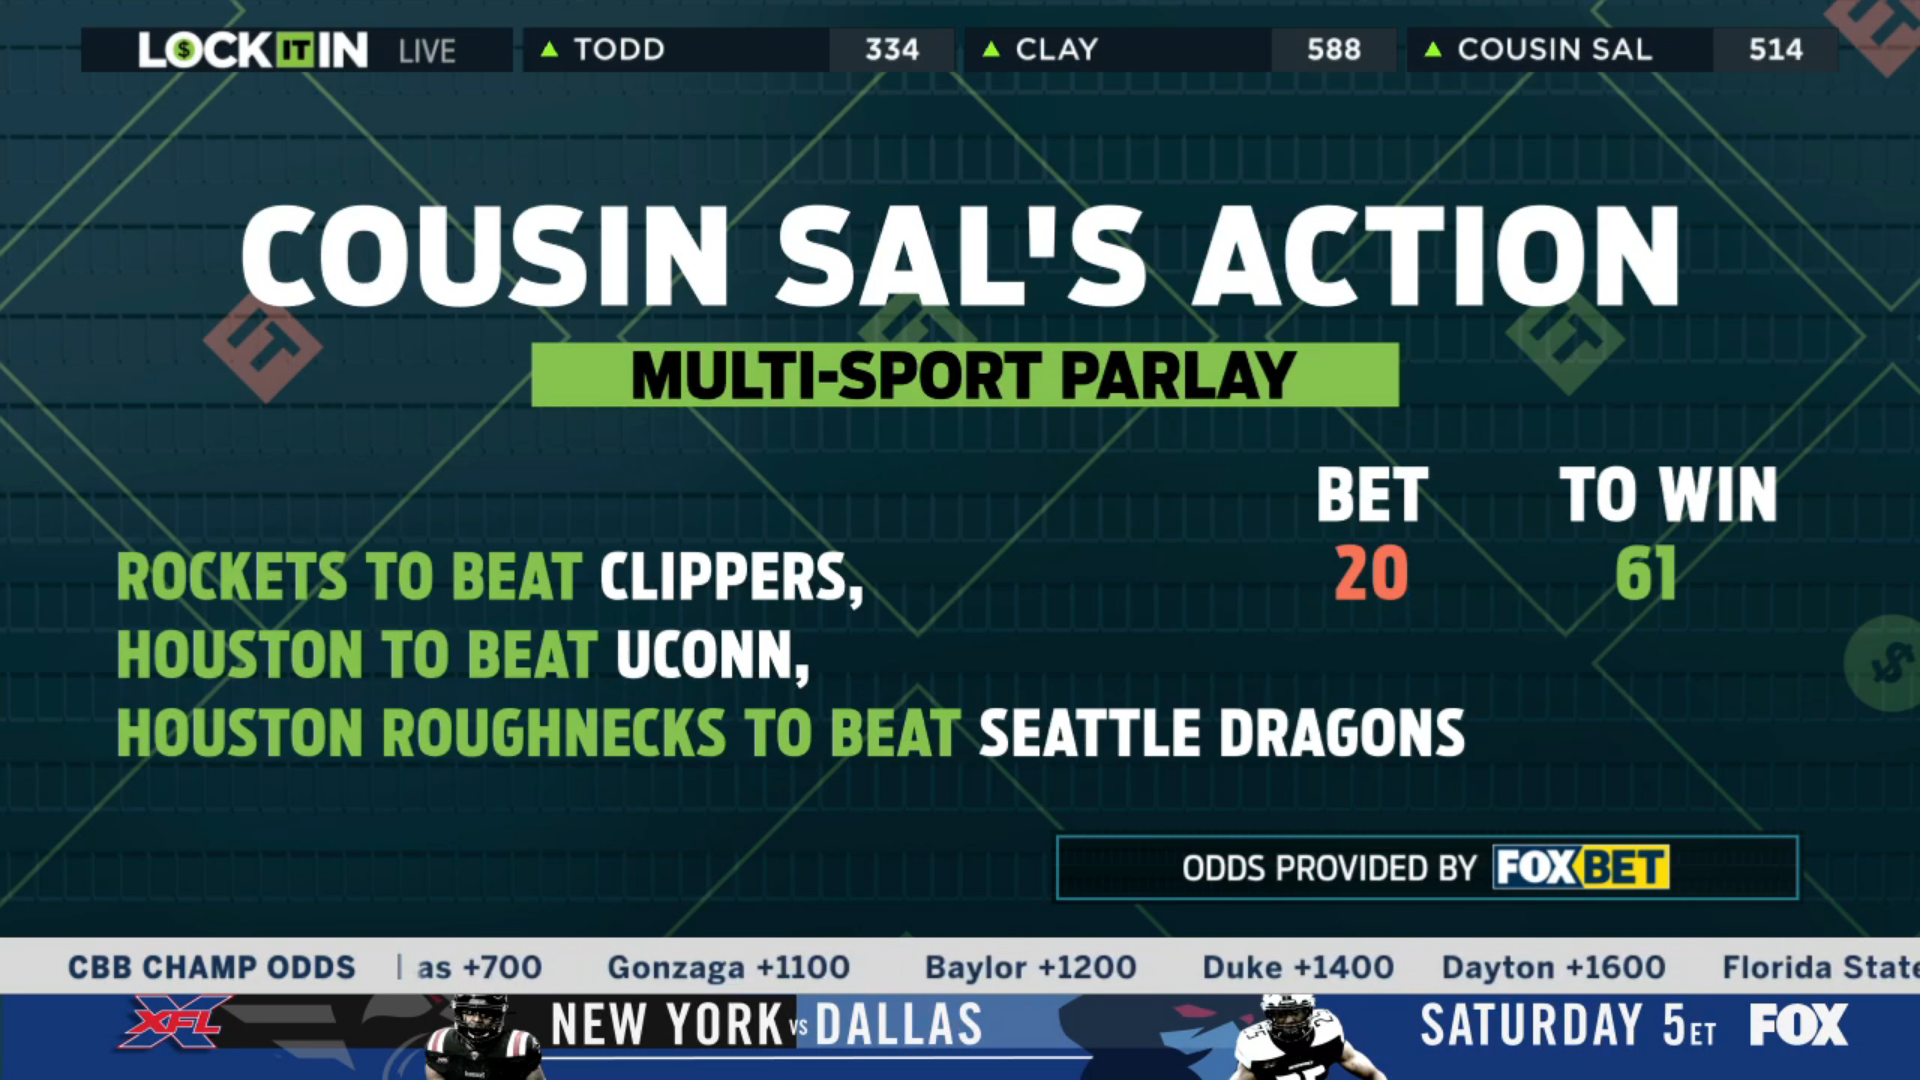Bet: (102, 537, 1476, 764)
Bet Amount: (1300, 452, 1444, 609)
Subtitle: (524, 332, 1414, 419)
Title: (233, 189, 1702, 327)
To Win: (1549, 448, 1788, 618)
Top Bar: (69, 15, 1849, 84)
